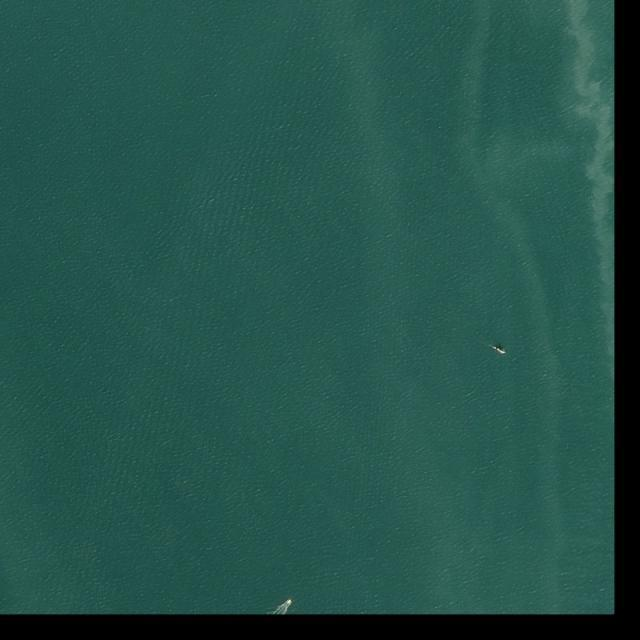ship: (496, 347, 507, 355), (286, 599, 293, 605)
